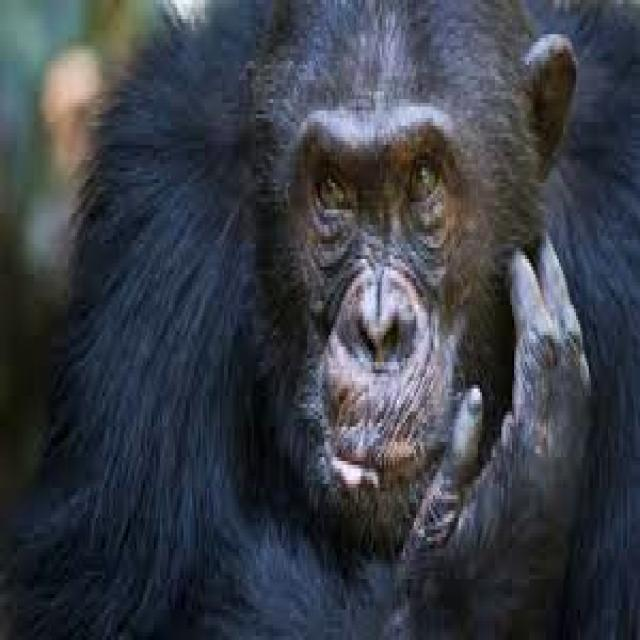chimpanzee: (4, 0, 638, 636)
